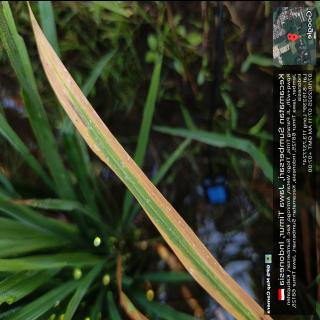Hawar-Daun: (26, 0, 273, 320)
